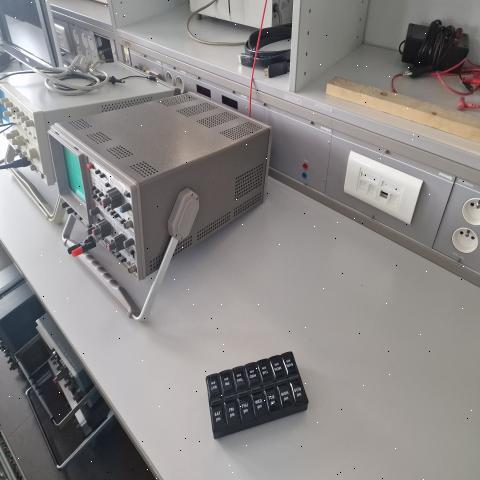PillBox: (166, 330, 356, 459)
